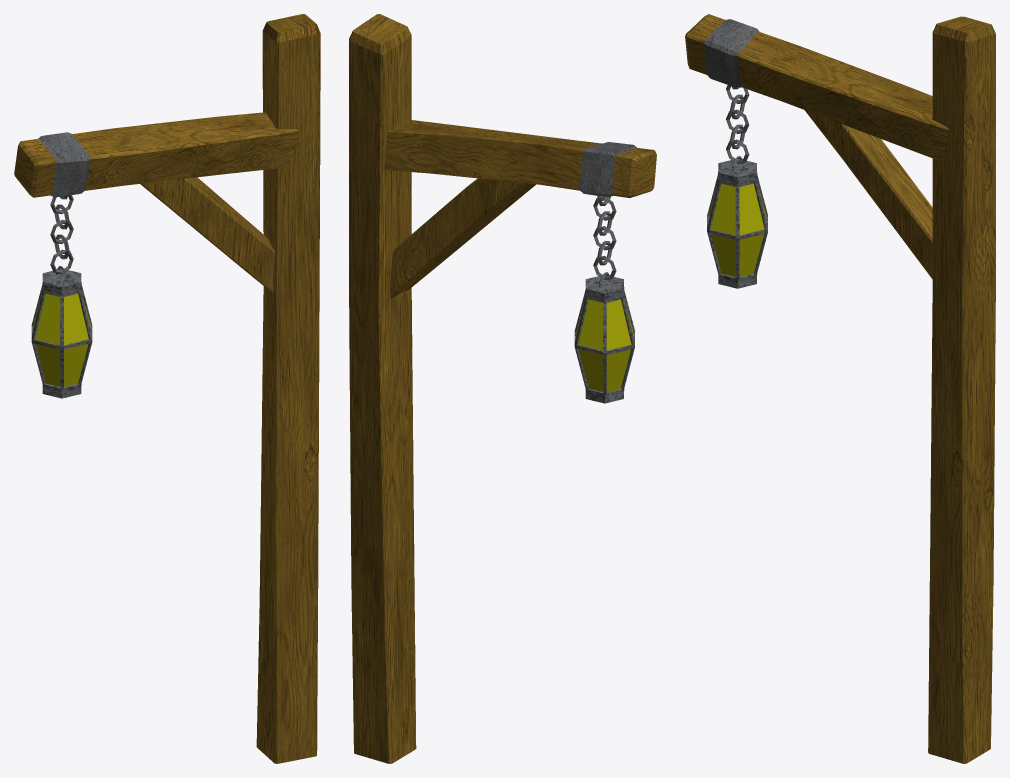
File: Lamp.fbx
The picture shows the model from 3 angles, left to right: view 1: azimuth 30°, elevation 25°; view 2: azimuth 150°, elevation 25°; view 3: azimuth 330°, elevation 25°; orthographic projection.
Visible parts, largest first — view 1: LampPost, Lamp; view 2: LampPost, Lamp; view 3: LampPost, Lamp.
Part boxes in pixels (box(x1,y1,x2,y2)): LampPost: box(14, 14, 320, 763); Lamp: box(31, 266, 92, 398); LampPost: box(349, 14, 656, 763); Lamp: box(574, 272, 634, 403); LampPost: box(685, 14, 995, 763); Lamp: box(707, 156, 767, 288).
Bounding box in the file's own units: 7.21 × 17.17 × 1.32.
